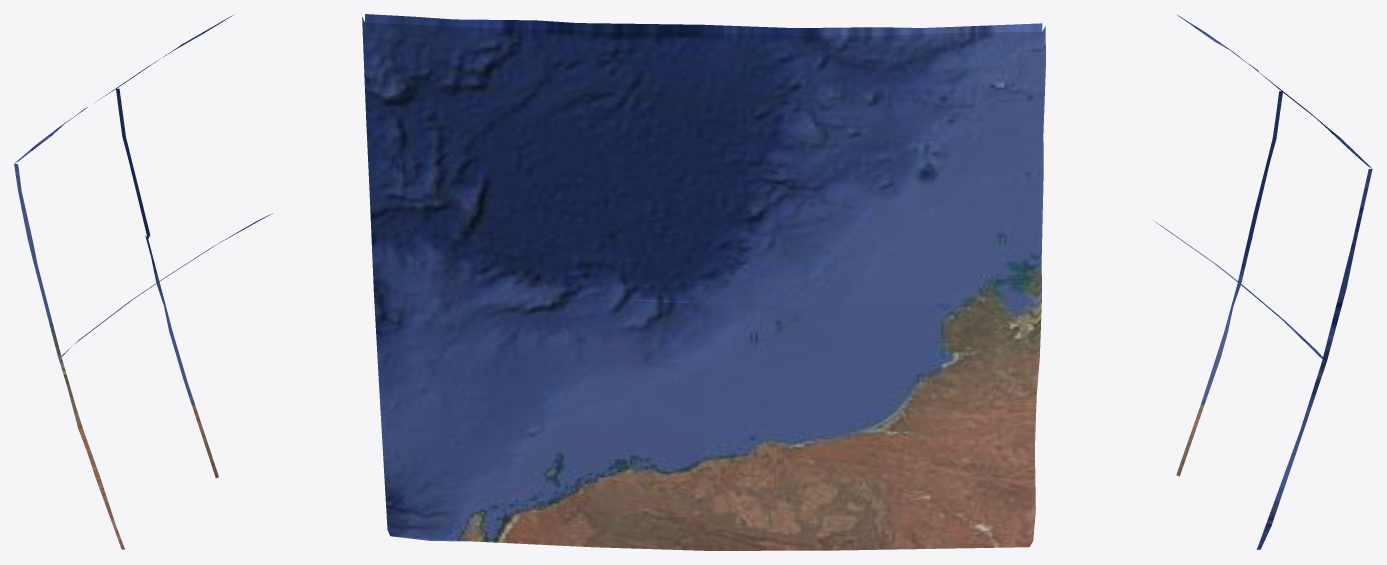
3 renders of one model, left to right at view 1: azimuth 30°, elevation 25°; view 2: azimuth 150°, elevation 25°; view 3: azimuth 270°, elevation 25°, orthographic. The views are drawn at different scales.
Bounding box in the file's own units: 1235475 × 1209701 × 894131.
1 material, 1 textured.
